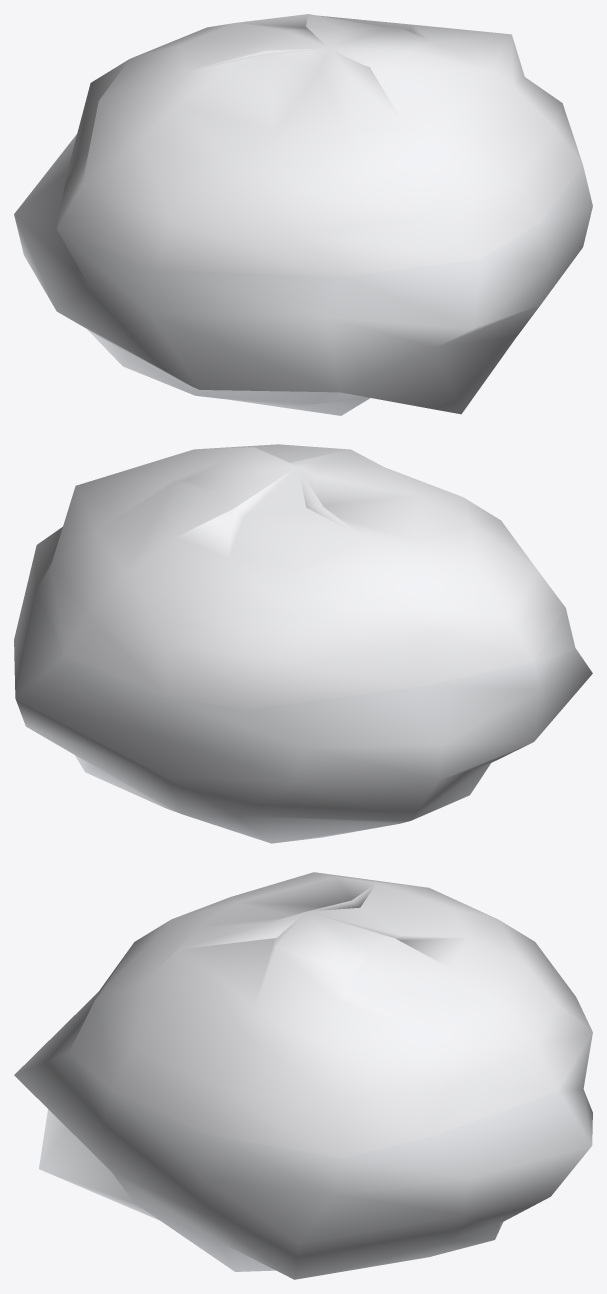
Rendered from bush-61_col.fbx.
3 renders of one model, top to bottom at view 1: azimuth 30°, elevation 25°; view 2: azimuth 150°, elevation 25°; view 3: azimuth 270°, elevation 25°, orthographic. The views are drawn at different scales.
Visible parts, largest first — view 1: bush-61.col; view 2: bush-61.col; view 3: bush-61.col.
Part boxes in pixels (x1,y1,x2,y2): bush-61.col: (14, 14, 592, 415); bush-61.col: (14, 444, 592, 843); bush-61.col: (14, 872, 592, 1279).
Bounding box in the file's own units: 0.134 × 0.0852 × 0.1347.
Materials: 1 (1 with a texture image).
